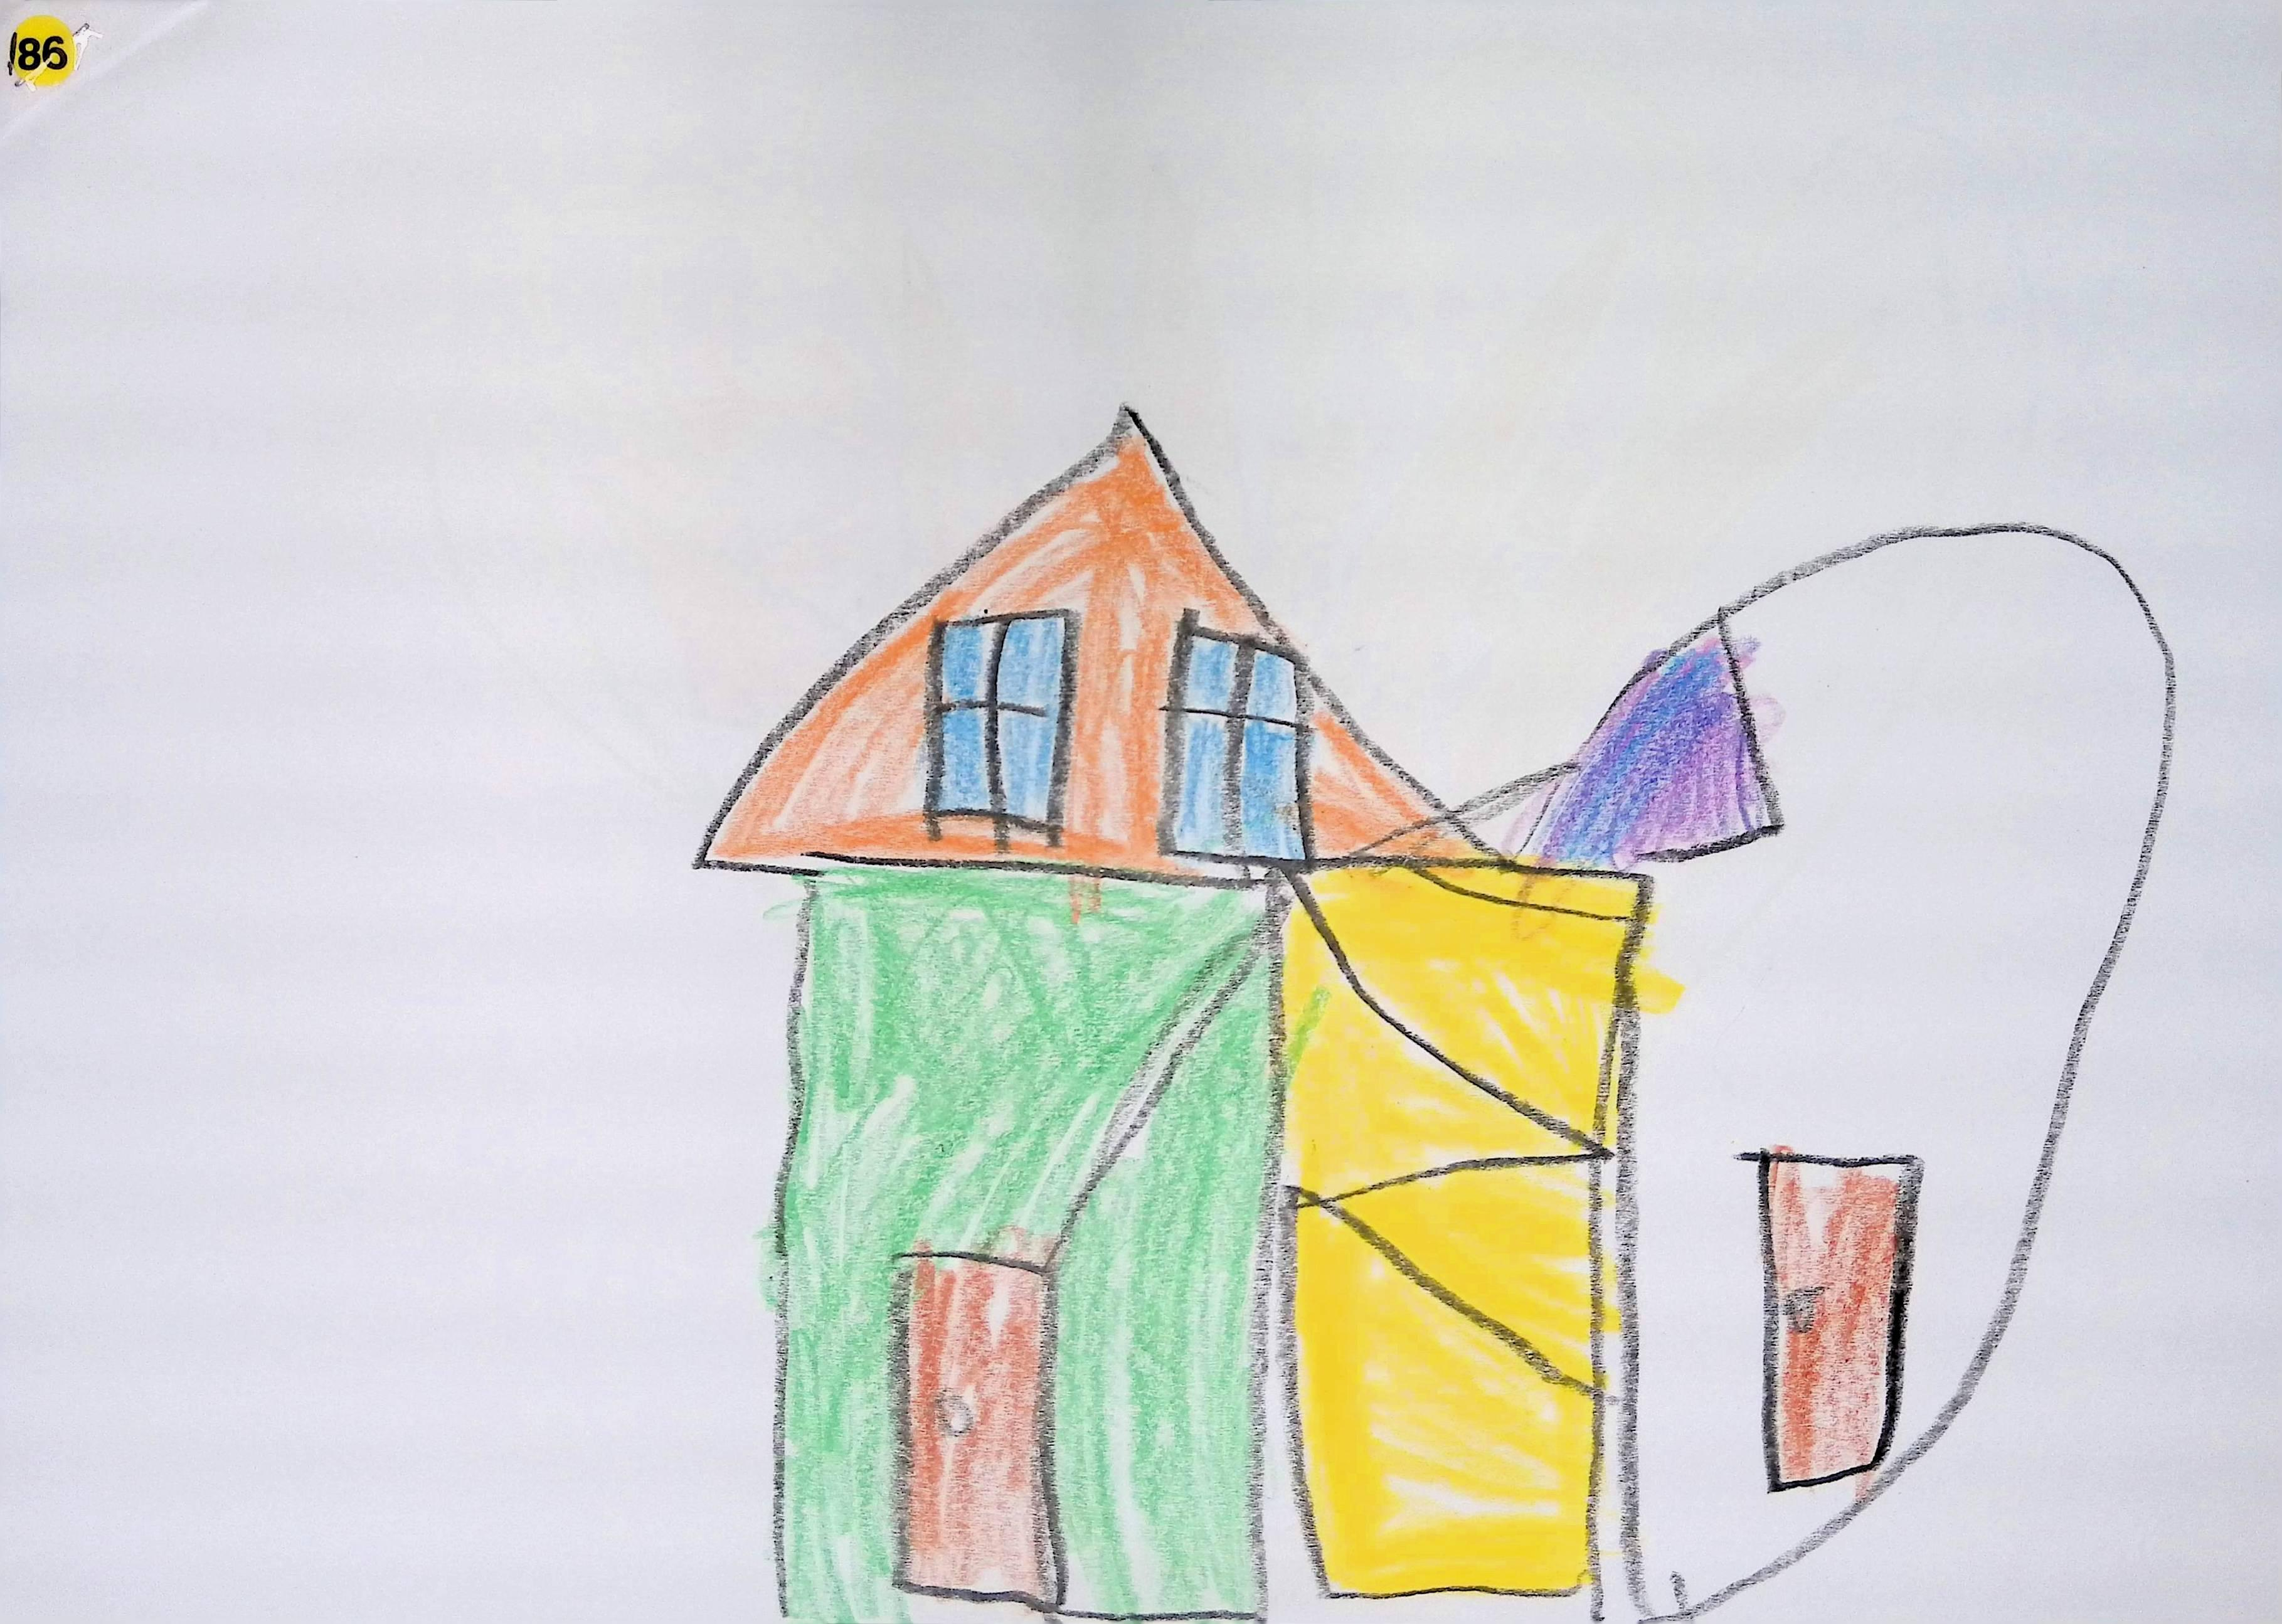door: (1743, 1149, 1925, 1492), (896, 1255, 1058, 1608)
house: (682, 388, 2182, 1624)
roof: (697, 408, 1488, 884)
wall: (775, 866, 1279, 1624)
window: (1166, 624, 1309, 861), (928, 612, 1070, 824)
